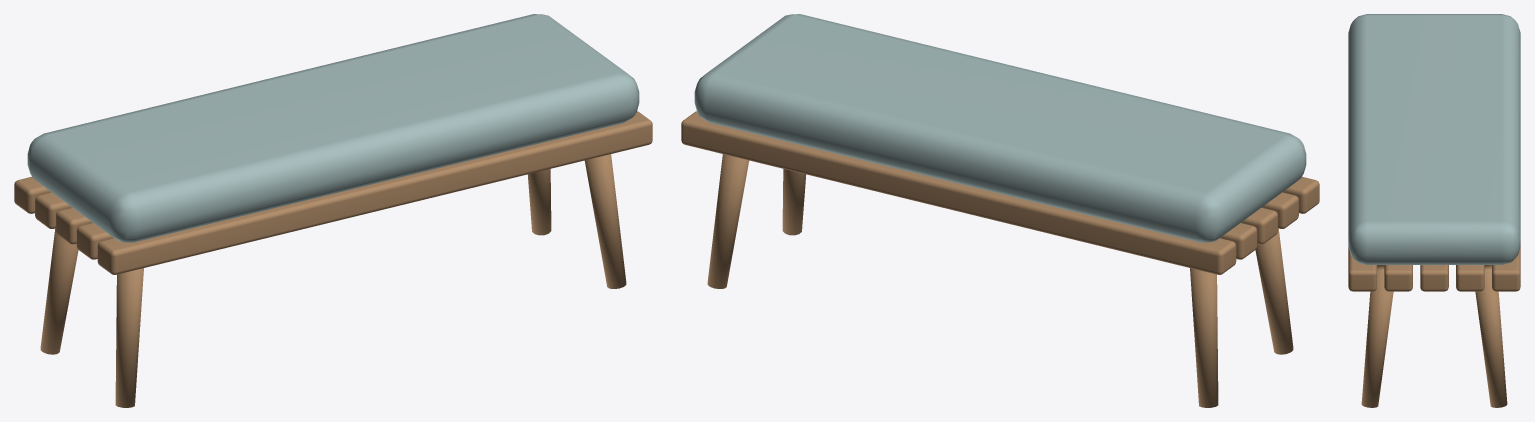
The model's file is atelier-bench.glb.
The picture shows the model from 3 angles, left to right: view 1: azimuth 30°, elevation 25°; view 2: azimuth 150°, elevation 25°; view 3: azimuth 270°, elevation 25°; orthographic projection. The views are drawn at different scales.
Parts seen in each view (by area): view 1: fabric.020, legs.017; view 2: fabric.020, legs.017; view 3: fabric.020, legs.017.
Boxes of the visible parts, x1,y1,x2,y2 form: fabric.020: [27, 14, 639, 242]; legs.017: [14, 111, 652, 407]; fabric.020: [694, 14, 1306, 242]; legs.017: [681, 111, 1319, 407]; fabric.020: [1348, 14, 1520, 264]; legs.017: [1348, 247, 1520, 407].
Size of the model in its own units: 1.5 by 0.5684 by 0.48.
